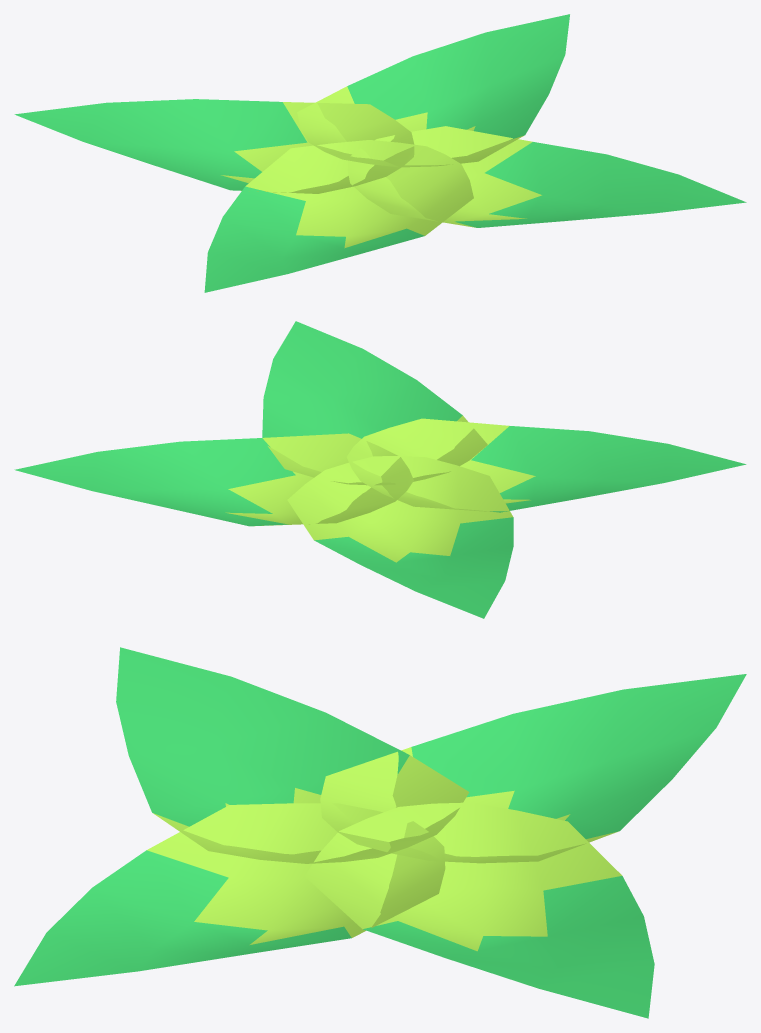
The model's file is Flower 5.fbx.
3 renders of one model, top to bottom at view 1: azimuth 30°, elevation 25°; view 2: azimuth 150°, elevation 25°; view 3: azimuth 270°, elevation 25°, orthographic. The views are drawn at different scales.
Visible parts, largest first — view 1: Plane.172; view 2: Plane.172; view 3: Plane.172.
Boxes of the visible parts, x1,y1,x2,y2 form: Plane.172: (14, 14, 746, 292); Plane.172: (14, 321, 746, 618); Plane.172: (14, 647, 746, 1018).
Bounding box in the file's own units: 2.06 × 0.1524 × 1.72.
